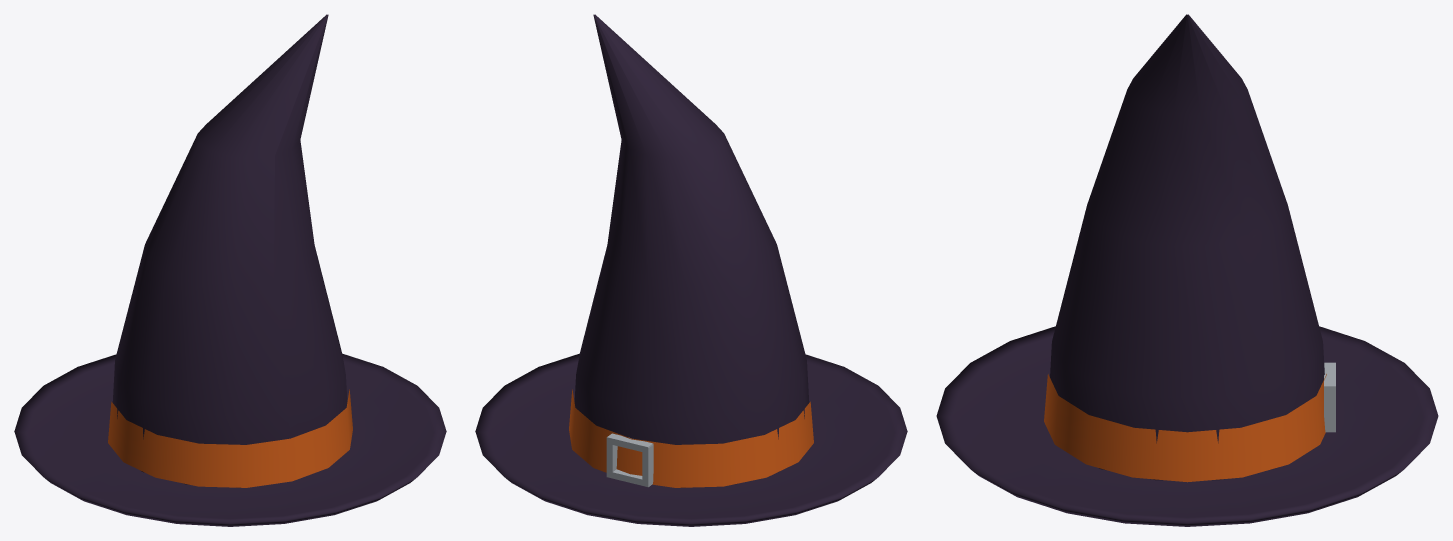
File: WITCH_HAT_TOWER.glb
3 renders of one model, left to right at view 1: azimuth 30°, elevation 25°; view 2: azimuth 150°, elevation 25°; view 3: azimuth 270°, elevation 25°, orthographic. The views are drawn at different scales.
Visible parts, largest first — view 1: fabric_0, pumpkin_1; view 2: fabric_0, pumpkin_1, steel_2; view 3: fabric_0, pumpkin_1, steel_2.
Boxes of the visible parts, <box> form: fabric_0: <box>14,14,446,526</box>; pumpkin_1: <box>108,389,352,487</box>; fabric_0: <box>475,14,907,526</box>; pumpkin_1: <box>569,389,813,487</box>; steel_2: <box>606,433,653,487</box>; fabric_0: <box>936,14,1438,526</box>; pumpkin_1: <box>1044,374,1326,482</box>; steel_2: <box>1324,362,1335,432</box>.
Bounding box in the file's own units: 19 × 19.84 × 19.
